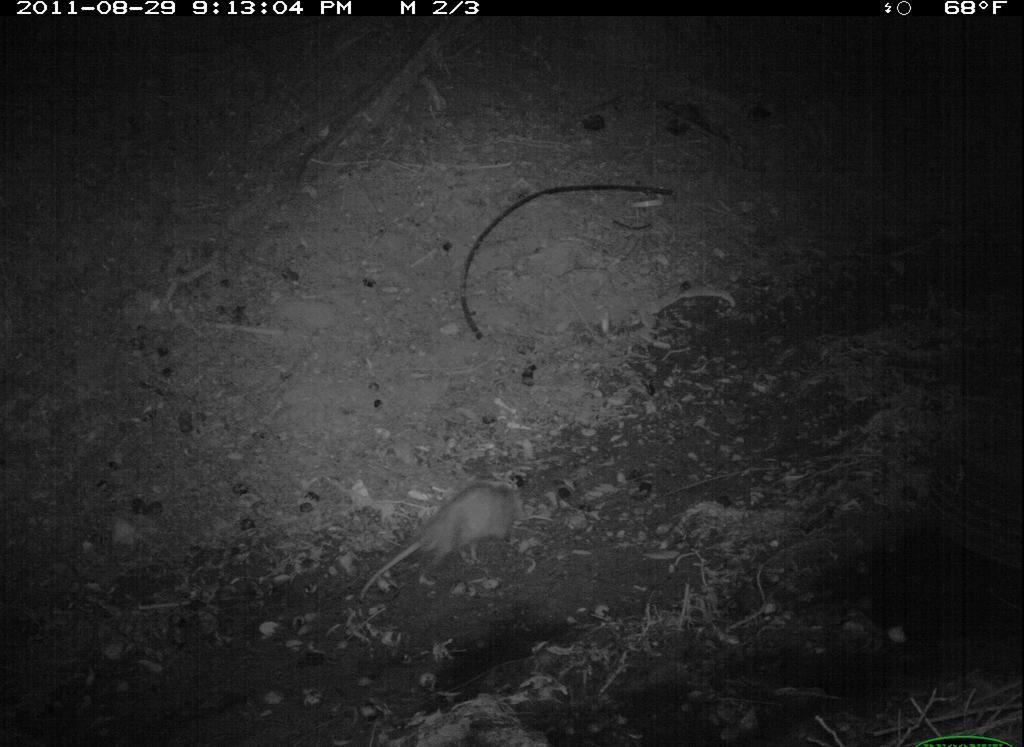opossum: (351, 474, 533, 616)
